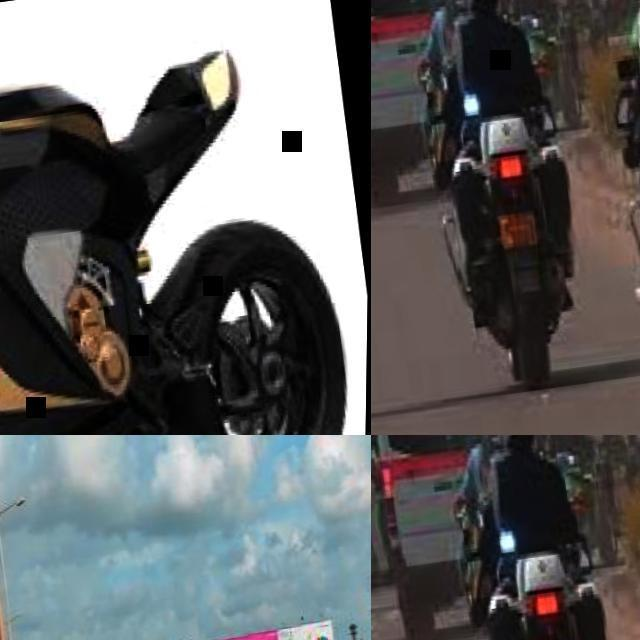car: (117, 0, 361, 419), (432, 0, 582, 359), (455, 433, 639, 639)
